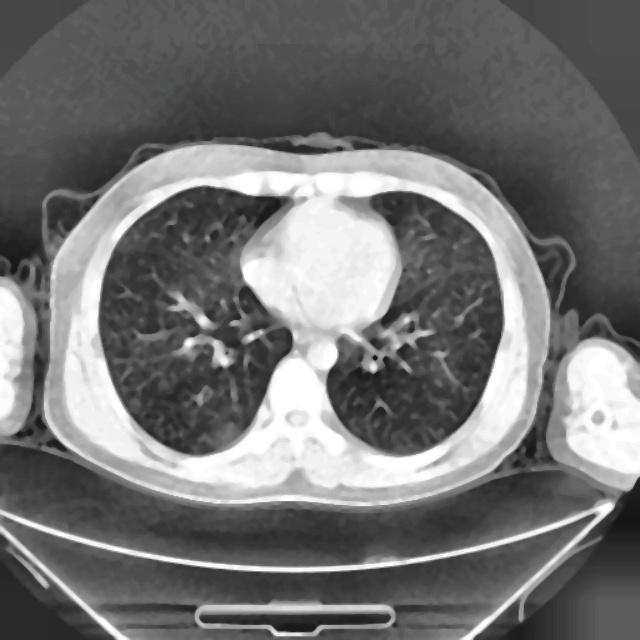covid: (37, 136, 554, 511)
